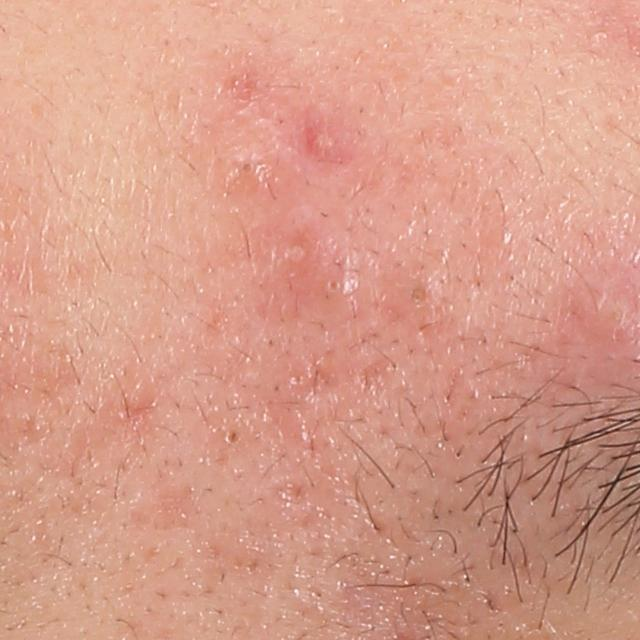comedo: (219, 153, 281, 204), (400, 280, 436, 312), (222, 426, 242, 445)
papule: (261, 206, 384, 335), (307, 118, 355, 173)
